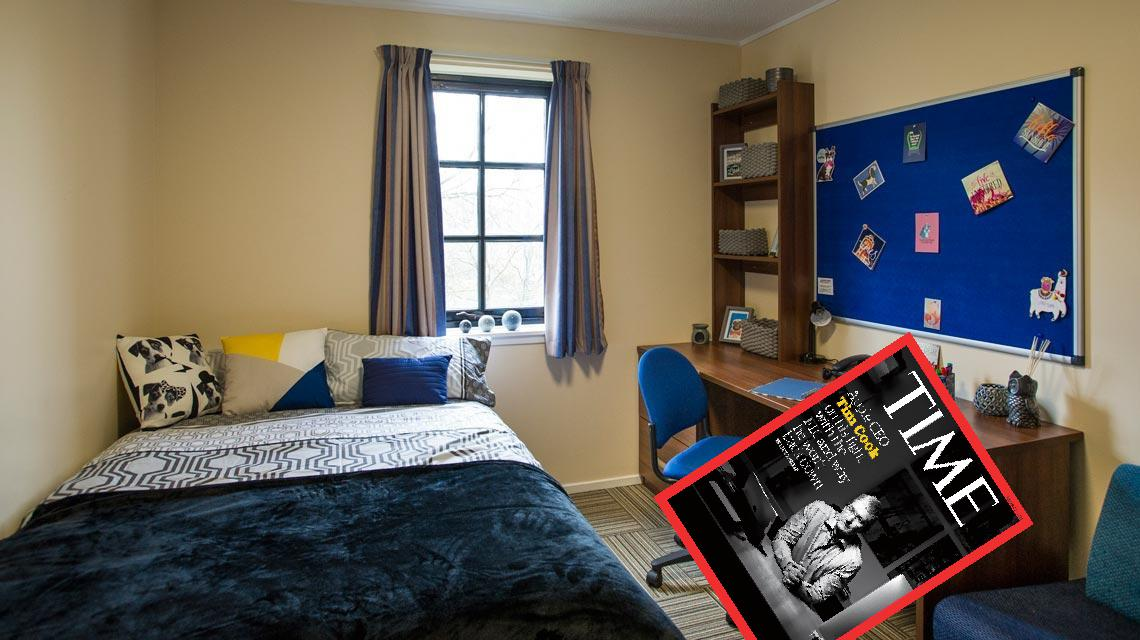times: (651, 329, 1036, 640)
